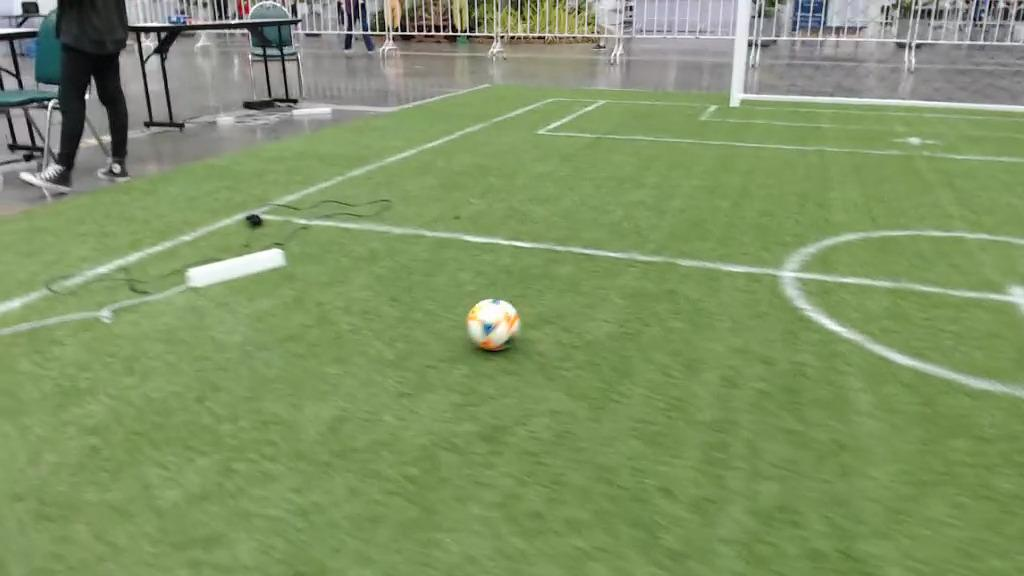ball: (468, 298, 520, 352)
